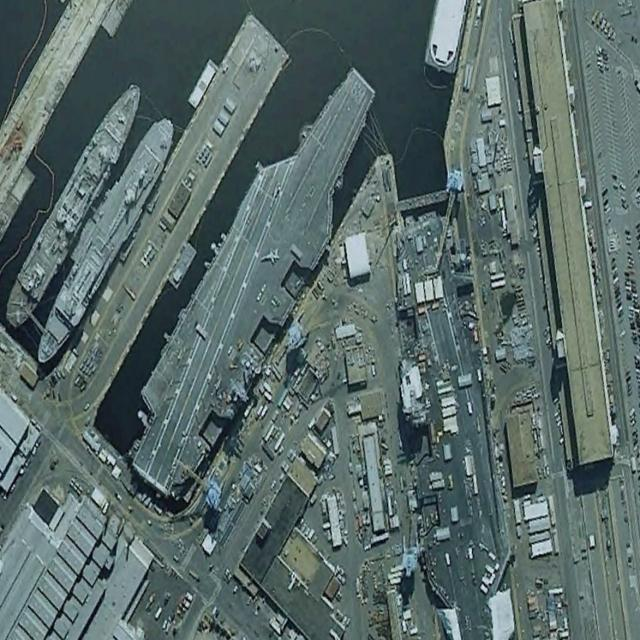Aircraft Carrier: (111, 40, 398, 519), (379, 208, 518, 637)
Other Ship: (26, 106, 182, 375), (2, 71, 152, 327)
